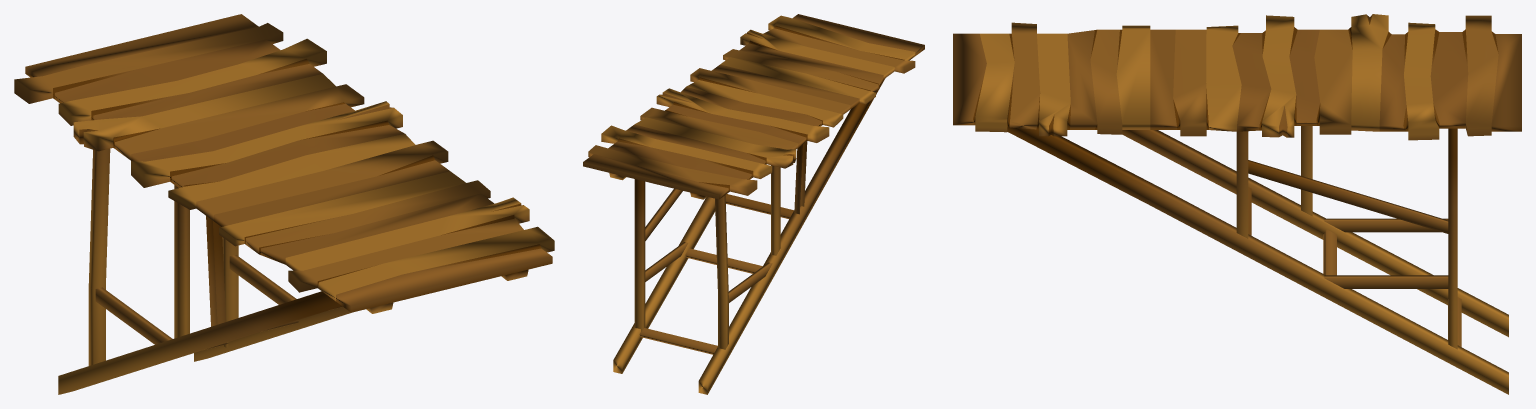
File: dock.fbx
The picture shows the model from 3 angles, left to right: view 1: azimuth 30°, elevation 25°; view 2: azimuth 150°, elevation 25°; view 3: azimuth 270°, elevation 25°; orthographic projection. The views are drawn at different scales.
Visible parts, largest first — view 1: dock; view 2: dock; view 3: dock.
Part boxes in pixels (x1,y1,x2,y2): dock: (14,14,554,394); dock: (583,14,924,394); dock: (953,14,1521,394).
Bounding box in the file's own units: 474 × 568 × 1000.
